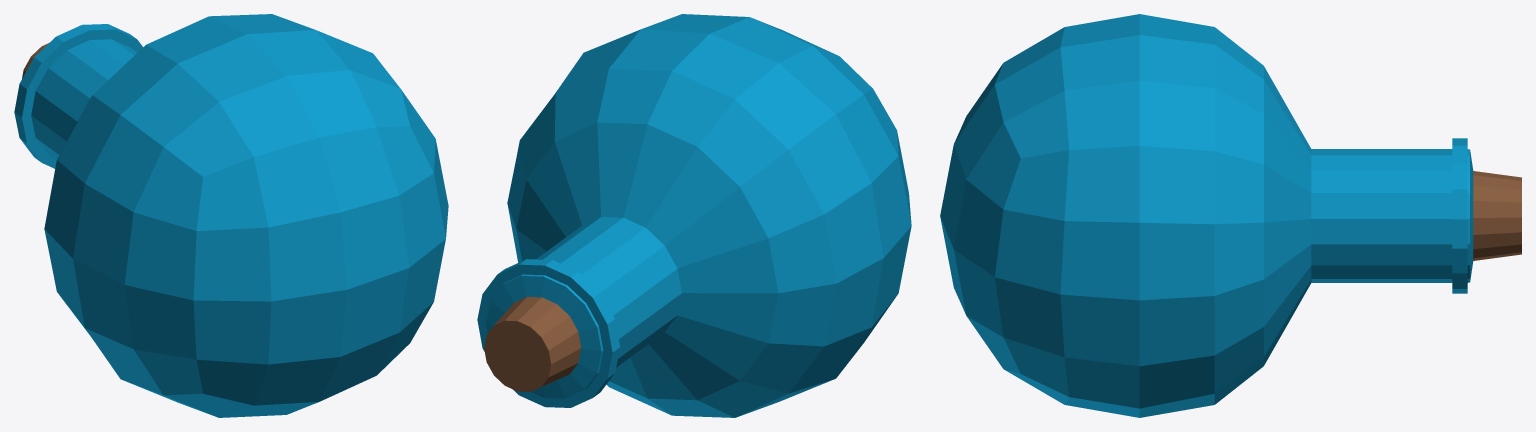
Rendered from posion_blue.fbx.
3 renders of one model, left to right at view 1: azimuth 30°, elevation 25°; view 2: azimuth 150°, elevation 25°; view 3: azimuth 270°, elevation 25°, orthographic.
Visible parts, largest first — view 1: Posion_blue; view 2: Posion_blue; view 3: Posion_blue.
Part boxes in pixels (<box>): Posion_blue: <box>14,14,448,417</box>; Posion_blue: <box>477,14,911,417</box>; Posion_blue: <box>940,14,1521,417</box>.
Size of the model in its own units: 245 by 168 by 168.
